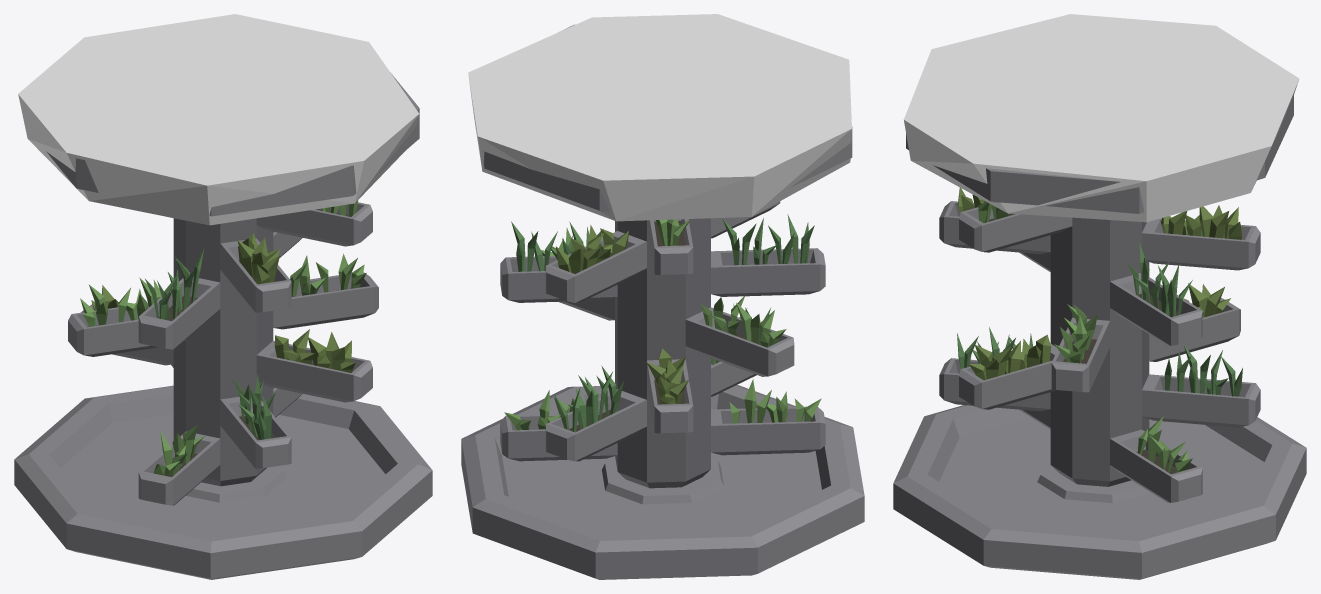
The model's file is SM_Prop_CenterTube_02.fbx.
3 renders of one model, left to right at view 1: azimuth 30°, elevation 25°; view 2: azimuth 150°, elevation 25°; view 3: azimuth 270°, elevation 25°, orthographic.
Parts seen in each view (by area): view 1: SM_Prop_CenterTube_02_LOD0, SM_Prop_CenterTube_02_ConvexHulls; view 2: SM_Prop_CenterTube_02_LOD0, SM_Prop_CenterTube_02_ConvexHulls; view 3: SM_Prop_CenterTube_02_LOD0, SM_Prop_CenterTube_02_ConvexHulls.
Boxes of the visible parts, x1,y1,x2,y2 form: SM_Prop_CenterTube_02_LOD0: (14, 72, 432, 579); SM_Prop_CenterTube_02_ConvexHulls: (18, 14, 419, 225); SM_Prop_CenterTube_02_LOD0: (461, 24, 864, 579); SM_Prop_CenterTube_02_ConvexHulls: (468, 14, 851, 221); SM_Prop_CenterTube_02_LOD0: (893, 94, 1306, 579); SM_Prop_CenterTube_02_ConvexHulls: (903, 14, 1299, 222).
Bounding box in the file's own units: 378 × 378 × 404.
1 material, 1 textured.
